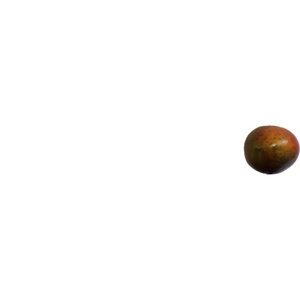manga: (244, 126, 300, 174)
